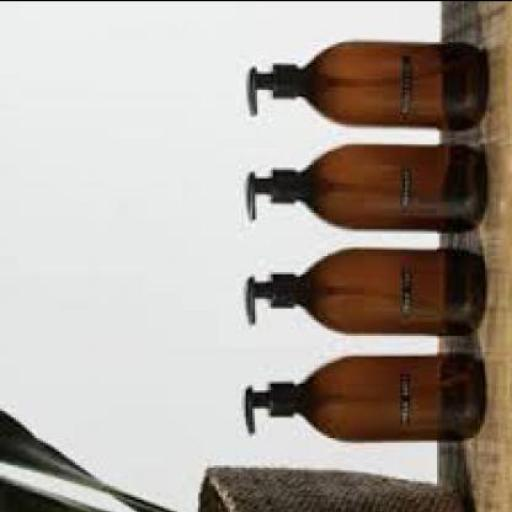glass: (298, 36, 482, 128), (289, 353, 485, 437), (291, 246, 481, 332), (293, 142, 482, 228)
plastic: (244, 373, 289, 434), (246, 164, 296, 218), (246, 60, 296, 114), (241, 272, 293, 320)
